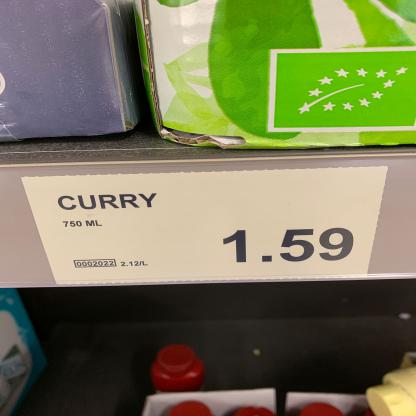prtg: (22, 168, 389, 286)
